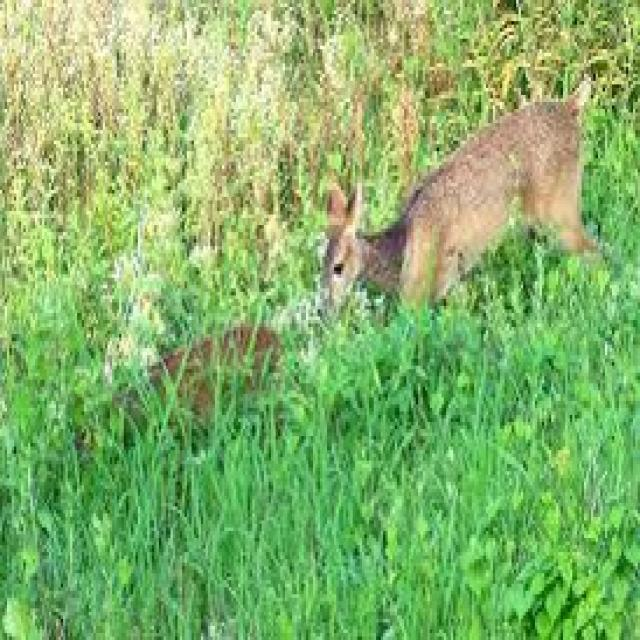elk: (290, 66, 639, 385)
